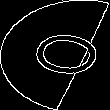O_E: (8, 26, 102, 84)
